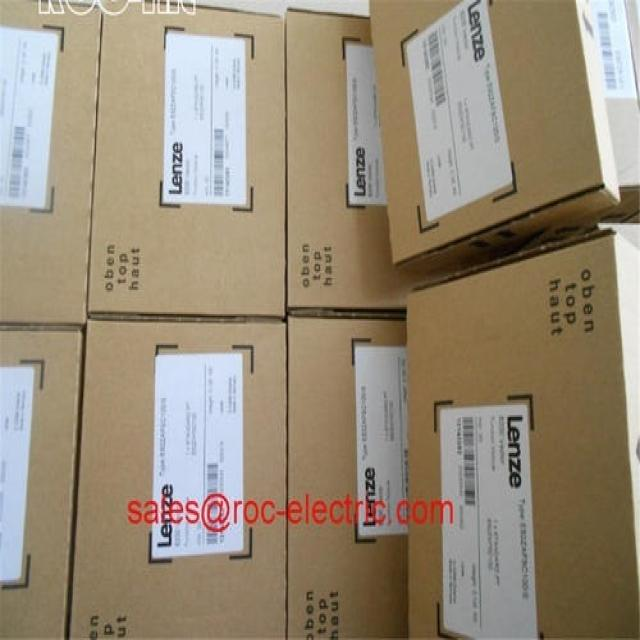box: (409, 229, 639, 637), (367, 1, 620, 286), (68, 317, 287, 638), (88, 1, 287, 321), (285, 8, 411, 319), (287, 316, 409, 637), (0, 0, 101, 329), (0, 328, 85, 638), (595, 2, 639, 224)
